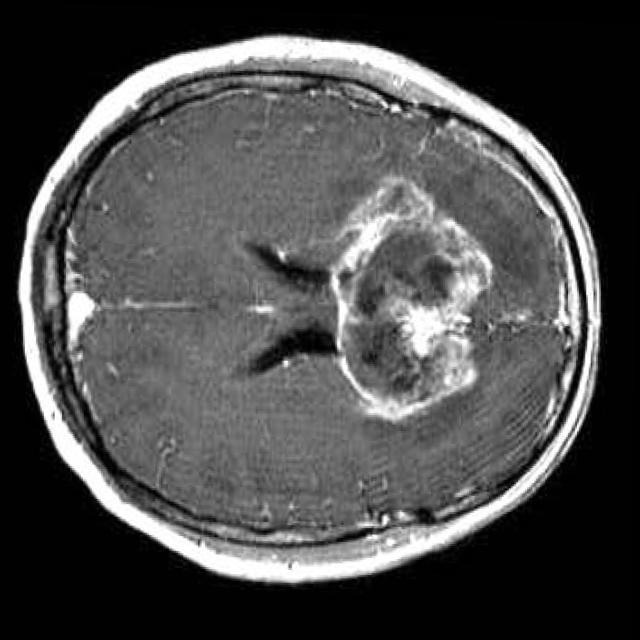Tumor: (331, 178, 494, 419)
